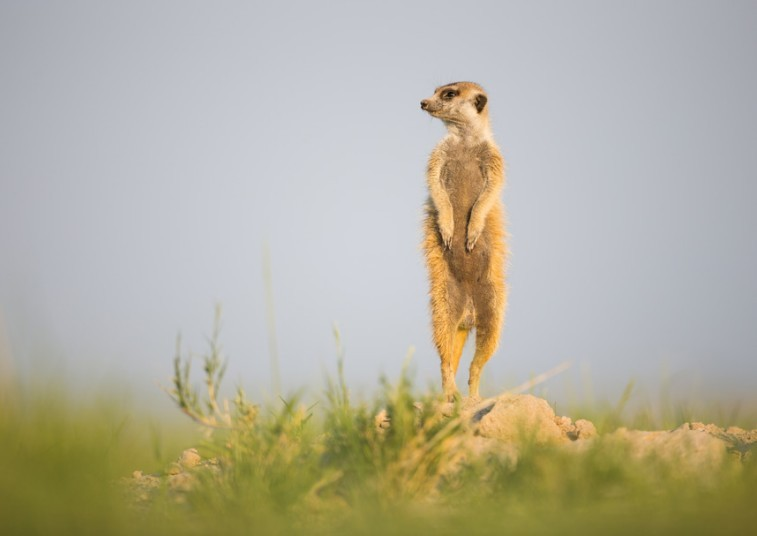meerkat: (410, 68, 510, 424)
